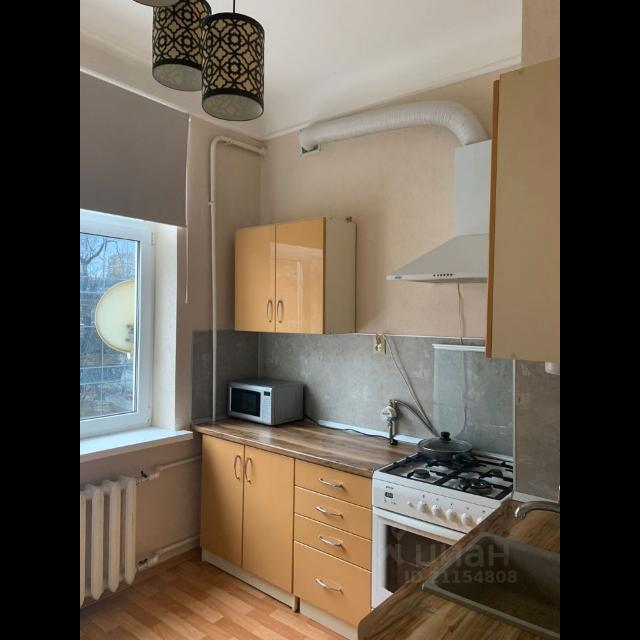Microwave: (226, 379, 304, 425)
Oven: (368, 444, 524, 640)
